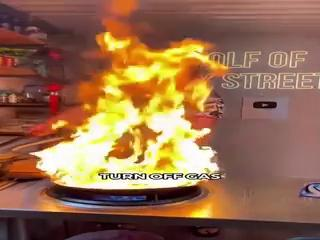Fire: (38, 9, 229, 186)
